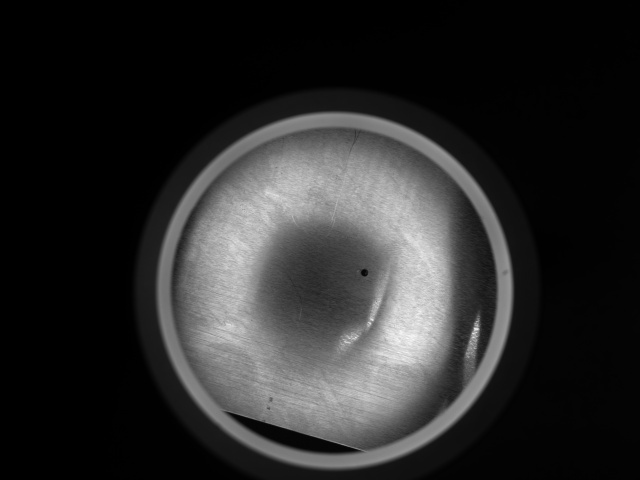zhen_kong: (356, 267, 372, 279)
